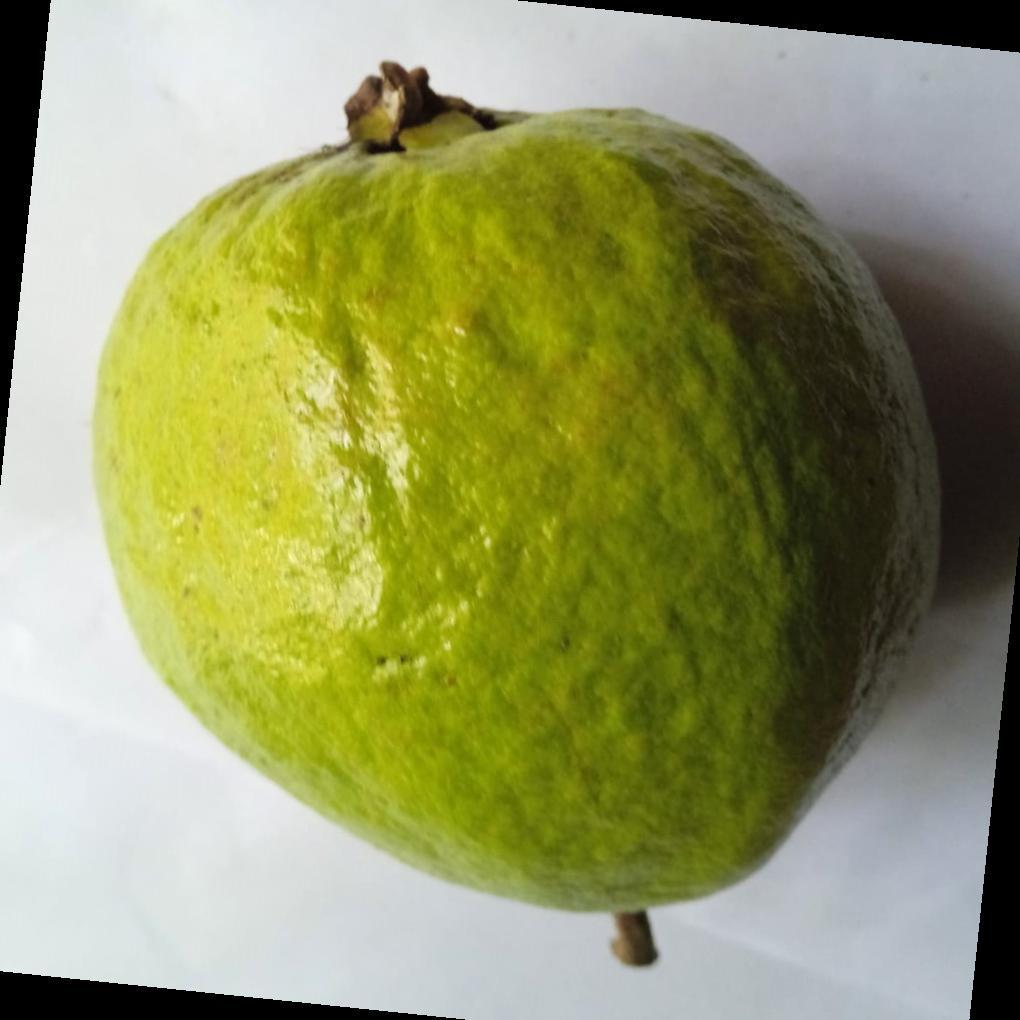FreshGuava: (88, 62, 942, 925)
